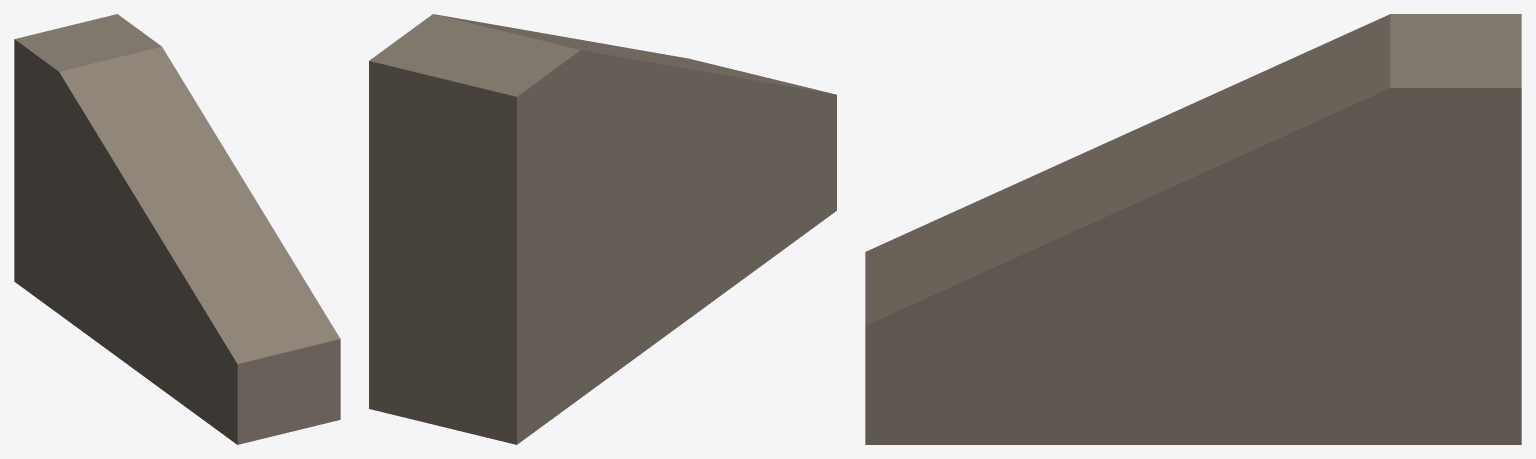
The model's file is steampunk_stair_siding.fbx.
The picture shows the model from 3 angles, left to right: view 1: azimuth 30°, elevation 25°; view 2: azimuth 150°, elevation 25°; view 3: azimuth 270°, elevation 25°; orthographic projection. The views are drawn at different scales.
Parts seen in each view (by area): view 1: Cube.051; view 2: Cube.051; view 3: Cube.051.
Boxes of the visible parts, box(x1,y1,x2,y2) form: Cube.051: box(14, 14, 340, 444); Cube.051: box(369, 14, 836, 444); Cube.051: box(865, 14, 1521, 444).
Bounding box in the file's own units: 0.4 × 0.9 × 1.5.
